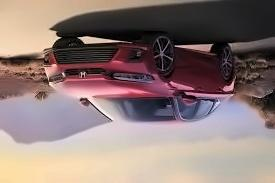Car hood: (49, 73, 174, 99)
Driver-s door - -F-R-: (180, 52, 204, 122)
Fender - -F-R-: (154, 49, 180, 100)
Fender - -R-L-: (219, 61, 233, 95)
Front bumper: (42, 41, 160, 73)
Headlight - -L-: (45, 70, 68, 88)
Headlight - -R-: (109, 70, 158, 85)
Passenger-s door - -R-R-: (200, 55, 220, 122)
Rear bumper: (229, 56, 240, 78)
Rear light - -R-: (229, 89, 237, 98)
Side bumper - -R-: (171, 44, 222, 63), (171, 44, 223, 61)
Side mirror - -L-: (179, 94, 199, 106)
